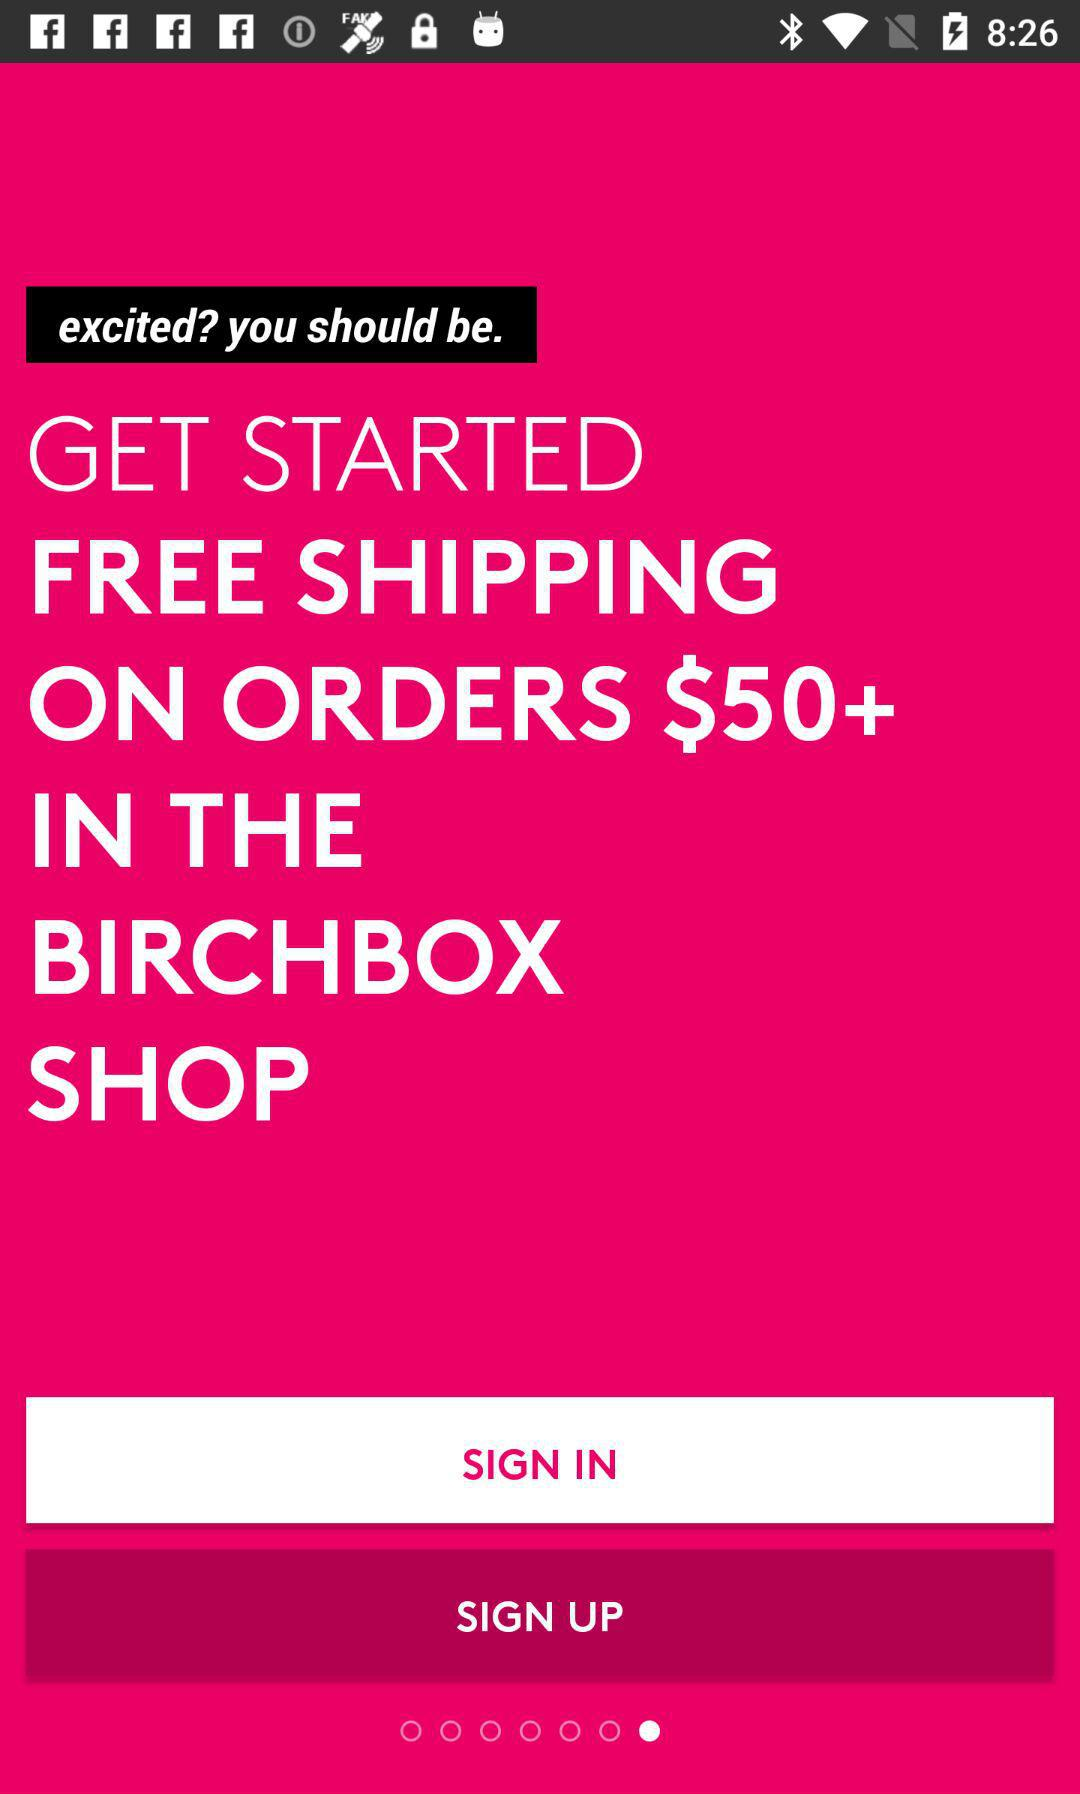PageIndicator: (398, 1717, 664, 1745)
Text: (29, 539, 896, 1123), (29, 416, 644, 495), (27, 287, 537, 363)
TextButton: (26, 1547, 1054, 1683), (26, 1395, 1054, 1524)
UpperTaskBar: (1, 1, 1080, 64)
